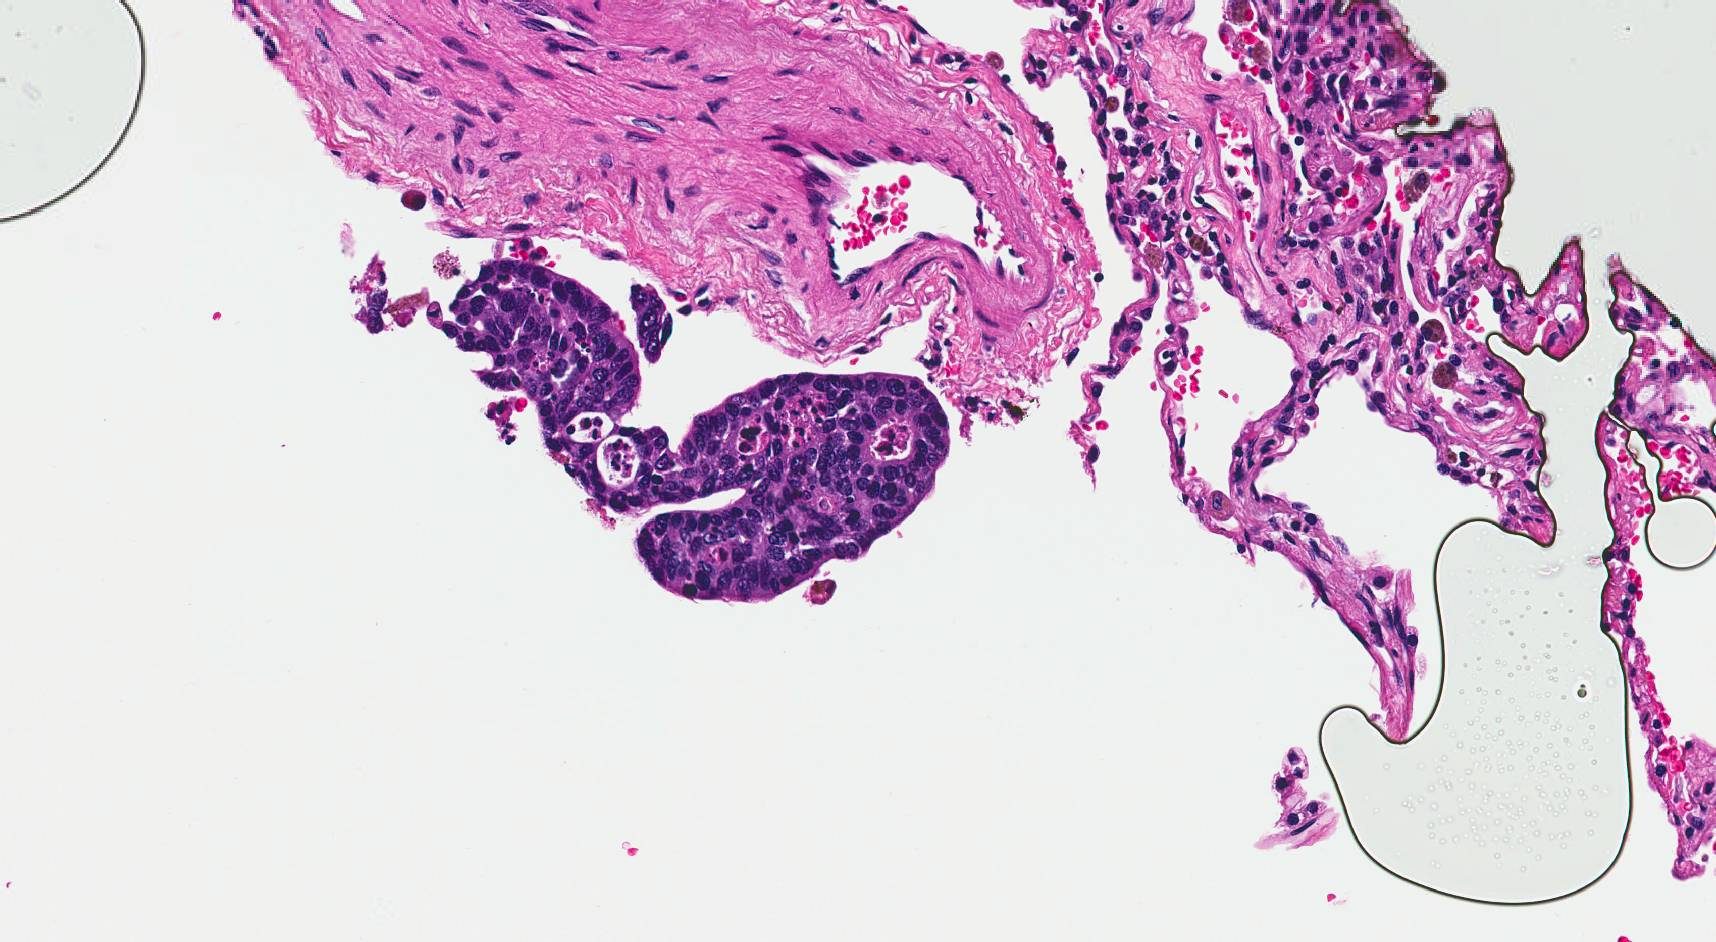stas: (439, 258, 952, 602), (627, 282, 679, 362)
